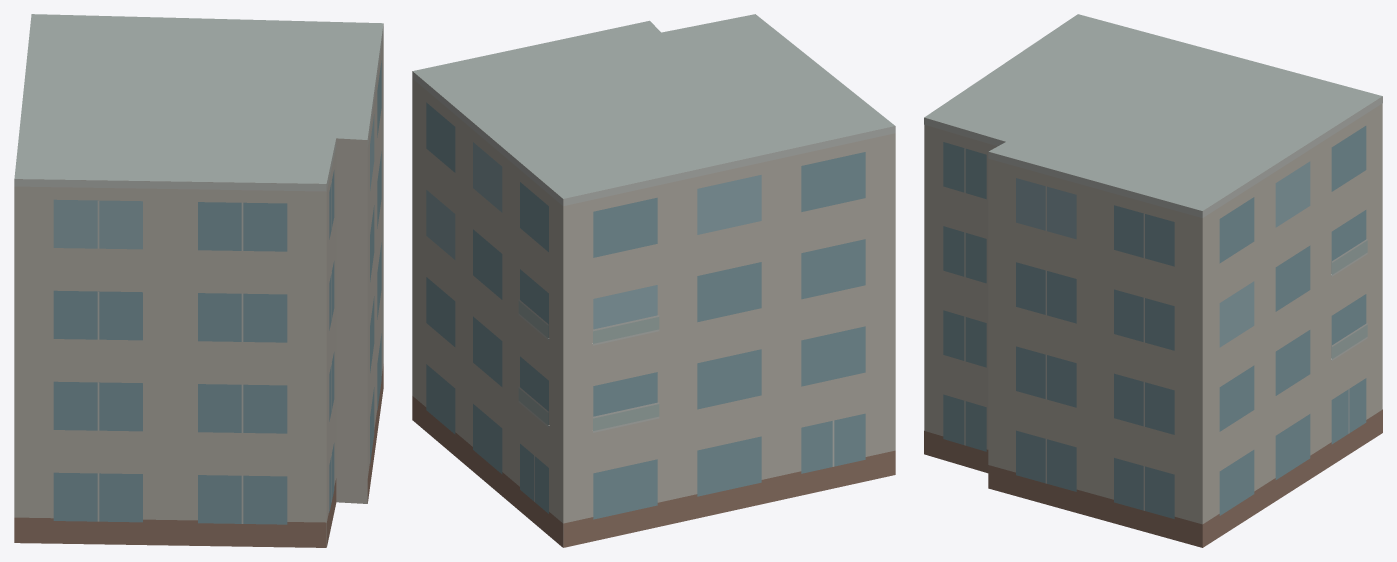
Rendered from survey-upis-32753442.glb.
The picture shows the model from 3 angles, left to right: view 1: azimuth 30°, elevation 25°; view 2: azimuth 150°, elevation 25°; view 3: azimuth 270°, elevation 25°; orthographic projection. The views are drawn at different scales.
Parts seen in each view (by area): view 1: survey-upis-32753442.tmp; view 2: survey-upis-32753442.tmp; view 3: survey-upis-32753442.tmp.
Boxes of the visible parts, x1=… form: survey-upis-32753442.tmp: x1=14, y1=14, x2=383, y2=547; survey-upis-32753442.tmp: x1=412, y1=14, x2=895, y2=547; survey-upis-32753442.tmp: x1=924, y1=14, x2=1382, y2=547.
Bounding box in the file's own units: 14.7 × 11.7 × 14.45.
